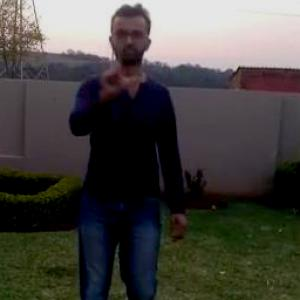land_hand: (89, 43, 143, 108)
